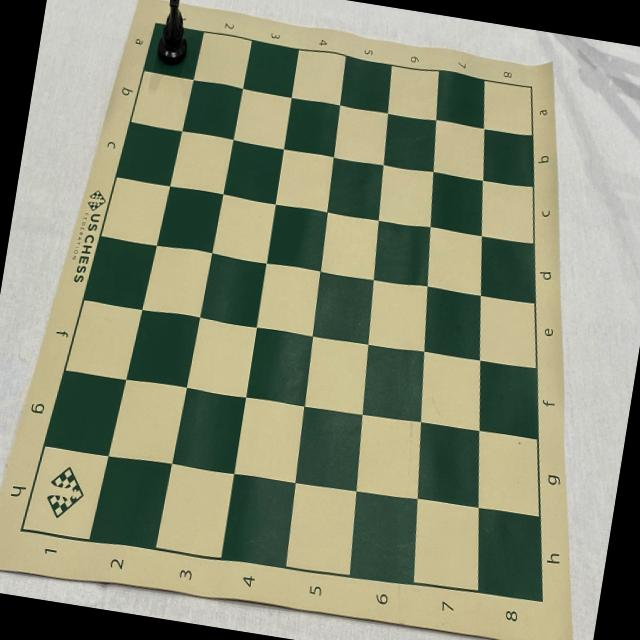black-knight: (154, 0, 197, 69)
